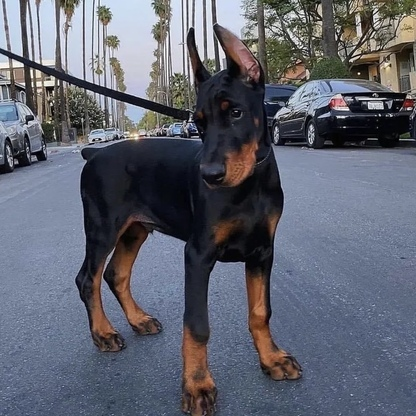doberman: (68, 27, 309, 406)
